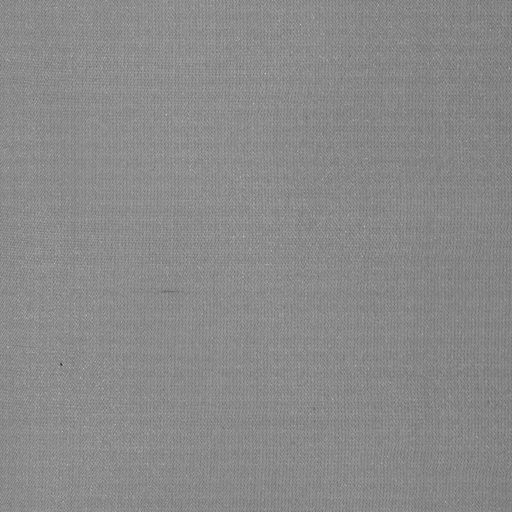defect: (157, 285, 188, 301)
